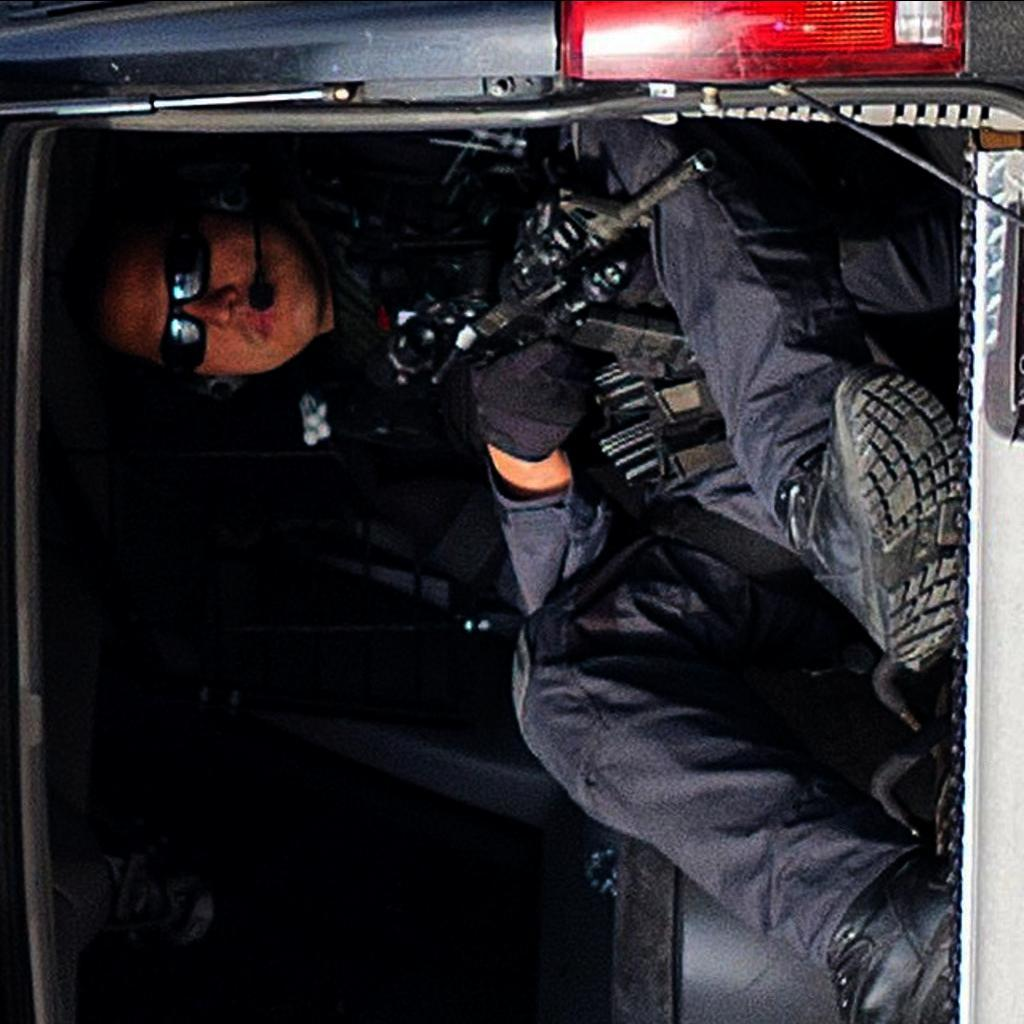gun: (370, 151, 714, 383)
